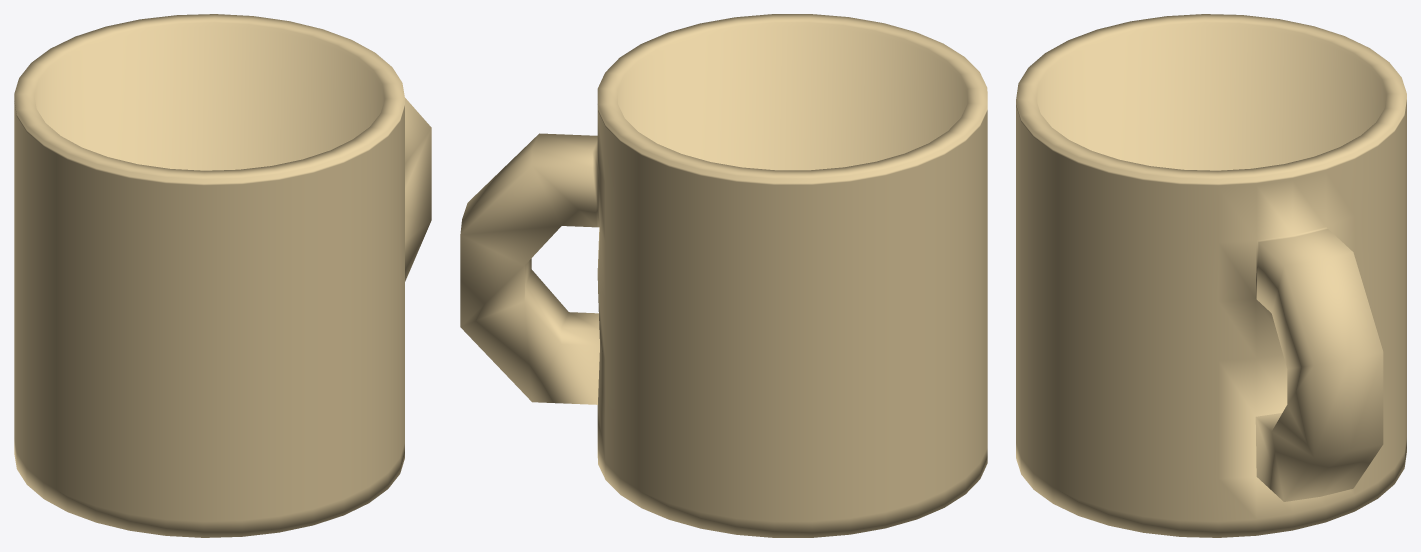
The model's file is cup.glb.
3 renders of one model, left to right at view 1: azimuth 30°, elevation 25°; view 2: azimuth 150°, elevation 25°; view 3: azimuth 270°, elevation 25°, orthographic.
Parts seen in each view (by area): view 1: Cylinder; view 2: Cylinder; view 3: Cylinder.
Part boxes in pixels (box(x1,y1,x2,y2)): Cylinder: box(14, 14, 431, 537); Cylinder: box(460, 14, 987, 537); Cylinder: box(1016, 14, 1406, 537).
Bounding box in the file's own units: 2.61 × 2.02 × 2.
